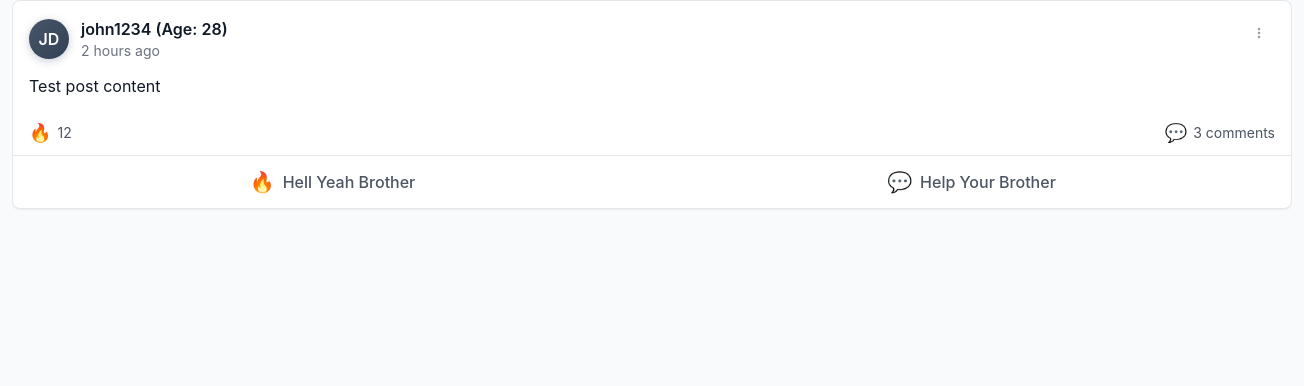
Test: Post Component › Comments Section › should add a comment successfully
# Open comments
Click the button labelled "💬 Help Your Brother": (972, 182) [652,160,1291,204]
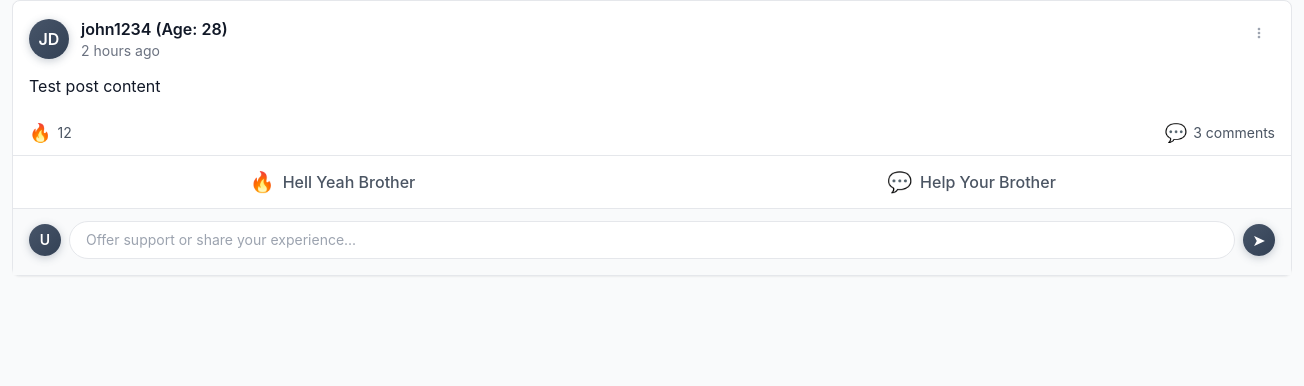
In the field named "write a comment": (652, 240) [69,221,1235,259], type "Great post!"
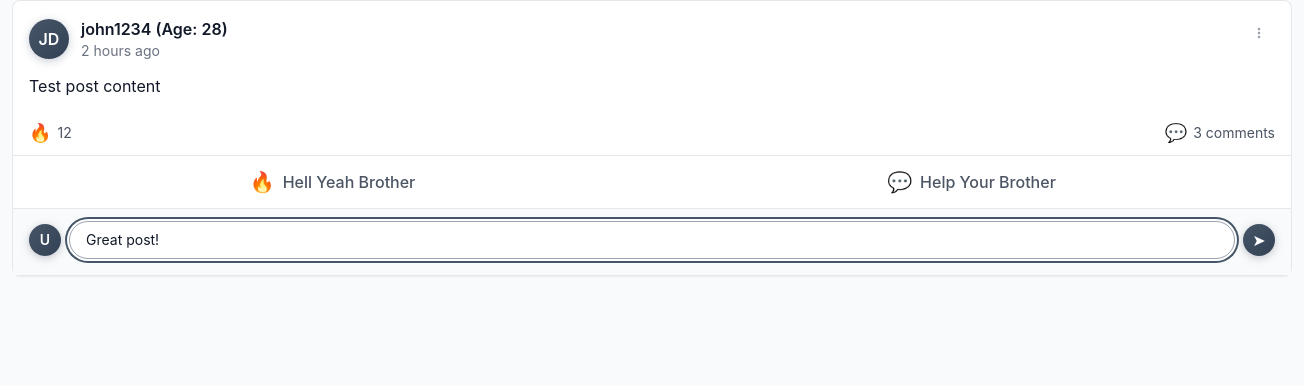
Click the button named "submit comment": (1259, 240) [1243,224,1275,256]
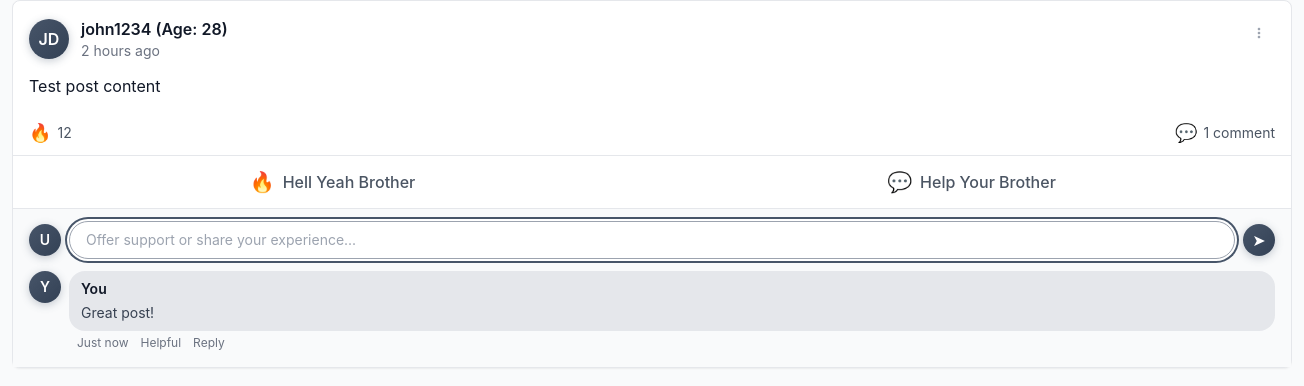
Expected: the text "Great post!" is shown, [81,304,154,321]
Expected: the text "You" is shown, [81,280,107,297]
Expected: the text "Just now" is shown, [77,335,128,351]
